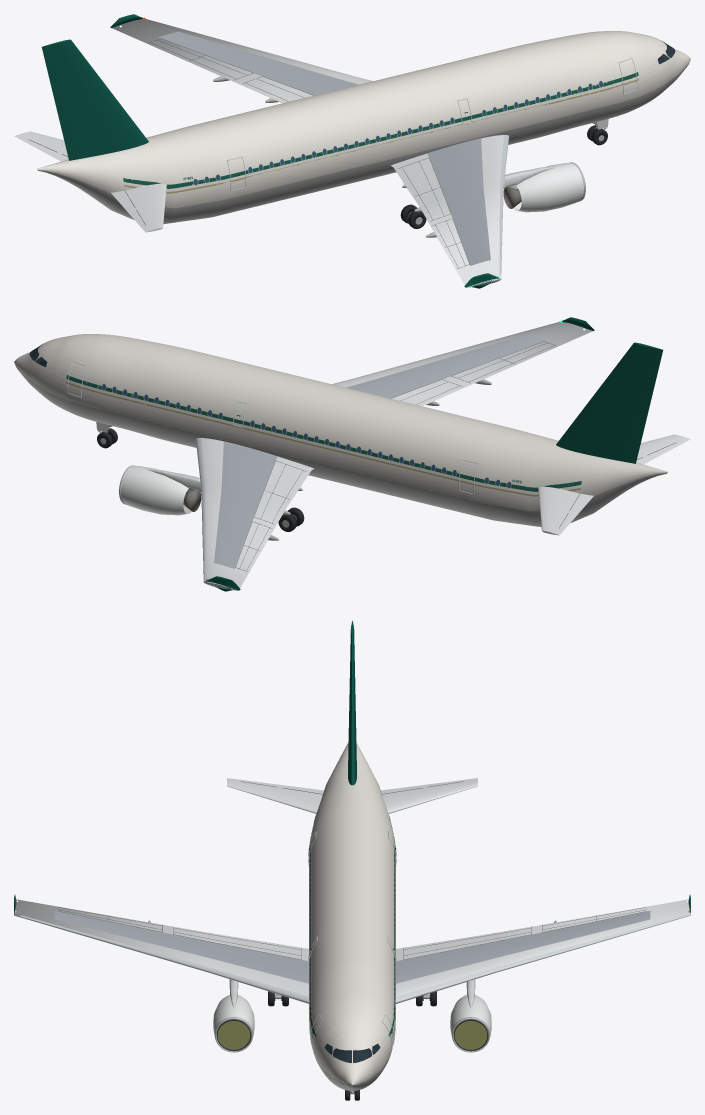
Rendered from airbus-a310-pia-stored.glb.
3 views of the same model, one above another, from view 1: azimuth 30°, elevation 25°; view 2: azimuth 150°, elevation 25°; view 3: azimuth 270°, elevation 25° (orthographic). The views are drawn at different scales.
Visible parts, largest first — view 1: shell_fuselage_paint, wing_main_wingPaint, wing_surface_panels_wingPanel, shell_fuselage_belly, tail_vertical_navy, tail_horizontal_wingPaint, engine_nacelles_enginePaint, shell_livery_v8_livery_v8_stripe0, shell_windows_glass, wing_control_surface_seams_seam, wing_surface_panels_silver, shell_livery_v8_livery_v8_stripe1 (+3 smaller); view 2: shell_fuselage_paint, wing_main_wingPaint, wing_surface_panels_wingPanel, shell_fuselage_belly, tail_vertical_navy, tail_horizontal_wingPaint, engine_nacelles_enginePaint, shell_livery_v8_livery_v8_stripe0, shell_livery_v8_livery_v8_stripe1, shell_windows_glass, wing_control_surface_seams_seam, wing_surface_panels_silver (+3 smaller); view 3: shell_fuselage_paint, wing_main_wingPaint, wing_surface_panels_wingPanel, tail_horizontal_wingPaint, wing_surface_panels_silver, engine_nacelles_enginePaint, wing_control_surface_seams_seam, tail_vertical_navy, engine_stored_closure_v15_0, engine_stored_closure_v15_1.
Part boxes in pixels (x1=…): shell_fuselage_paint: x1=37, y1=31, x2=690, y2=208; wing_main_wingPaint: x1=112, y1=19, x2=509, y2=287; wing_surface_panels_wingPanel: x1=158, y1=31, x2=490, y2=265; shell_fuselage_belly: x1=37, y1=64, x2=688, y2=224; tail_vertical_navy: x1=41, y1=39, x2=148, y2=160; tail_horizontal_wingPaint: x1=14, y1=131, x2=166, y2=232; engine_nacelles_enginePaint: x1=508, y1=162, x2=583, y2=212; shell_livery_v8_livery_v8_stripe0: x1=123, y1=72, x2=638, y2=188; shell_windows_glass: x1=193, y1=81, x2=602, y2=185; wing_control_surface_seams_seam: x1=148, y1=38, x2=469, y2=268; wing_surface_panels_silver: x1=156, y1=21, x2=508, y2=275; shell_livery_v8_livery_v8_stripe1: x1=124, y1=78, x2=638, y2=193; shell_fuselage_paint: x1=14, y1=334, x2=667, y2=511; wing_main_wingPaint: x1=195, y1=322, x2=592, y2=590; wing_surface_panels_wingPanel: x1=214, y1=334, x2=546, y2=568; shell_fuselage_belly: x1=16, y1=367, x2=667, y2=527; tail_vertical_navy: x1=556, y1=342, x2=663, y2=463; tail_horizontal_wingPaint: x1=538, y1=434, x2=690, y2=535; engine_nacelles_enginePaint: x1=121, y1=465, x2=196, y2=515; shell_livery_v8_livery_v8_stripe0: x1=66, y1=375, x2=581, y2=491; shell_livery_v8_livery_v8_stripe1: x1=66, y1=381, x2=580, y2=496; shell_windows_glass: x1=102, y1=384, x2=511, y2=488; wing_control_surface_seams_seam: x1=235, y1=341, x2=556, y2=571; wing_surface_panels_silver: x1=196, y1=324, x2=548, y2=578; shell_fuselage_paint: x1=309, y1=742, x2=395, y2=1084; wing_main_wingPaint: x1=14, y1=899, x2=690, y2=1003; wing_surface_panels_wingPanel: x1=54, y1=911, x2=650, y2=983; tail_horizontal_wingPaint: x1=227, y1=778, x2=477, y2=813; wing_surface_panels_silver: x1=20, y1=915, x2=684, y2=1000; engine_nacelles_enginePaint: x1=213, y1=995, x2=491, y2=1036; wing_control_surface_seams_seam: x1=58, y1=907, x2=646, y2=959; tail_vertical_navy: x1=348, y1=620, x2=356, y2=785; engine_stored_closure_v15_0: x1=216, y1=1019, x2=251, y2=1049; engine_stored_closure_v15_1: x1=453, y1=1019, x2=488, y2=1049.
Size of the model in its own units: 46.66 by 15.8 by 43.9.
